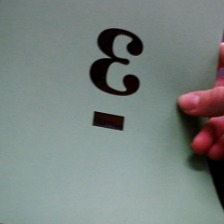green3: (77, 22, 149, 133)
